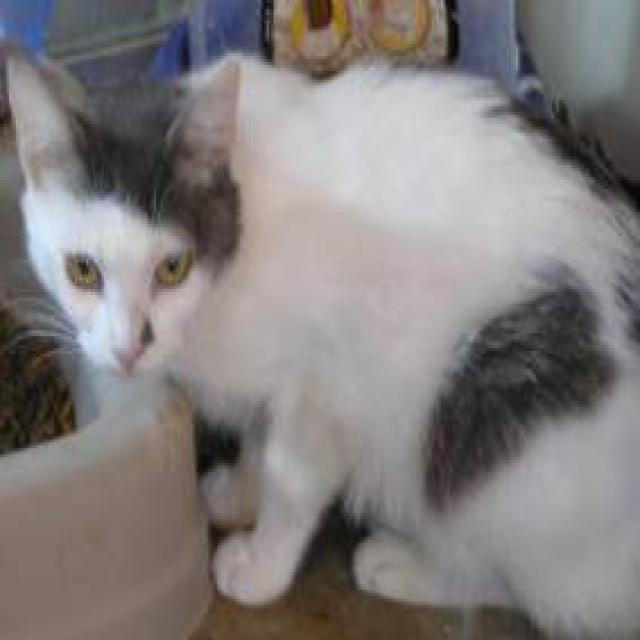cat: (0, 41, 638, 637)
